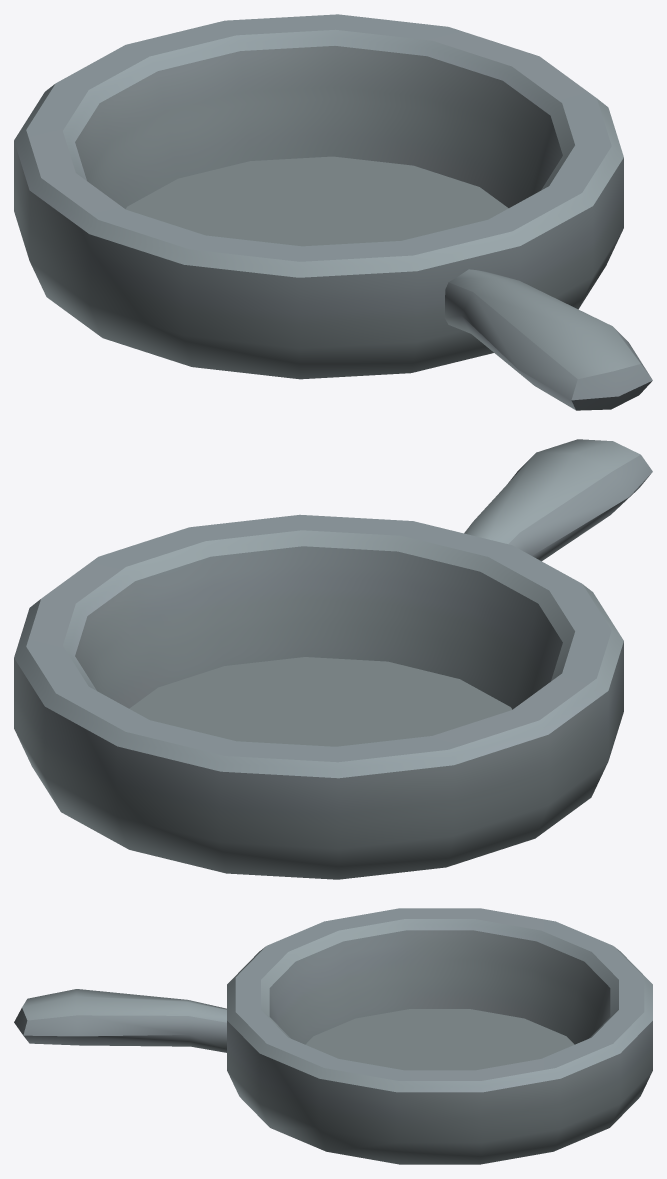
File: kkr.pan_a.glb
3 renders of one model, top to bottom at view 1: azimuth 30°, elevation 25°; view 2: azimuth 150°, elevation 25°; view 3: azimuth 270°, elevation 25°, orthographic. The views are drawn at different scales.
Parts seen in each view (by area): view 1: pan_A; view 2: pan_A; view 3: pan_A.
Part boxes in pixels (x1,y1,x2,y2): pan_A: (14, 14, 652, 410); pan_A: (14, 439, 652, 879); pan_A: (14, 908, 652, 1164).
Size of the model in its own units: 0.2757 by 0.0689 by 0.4135.
1 material, 1 textured.
